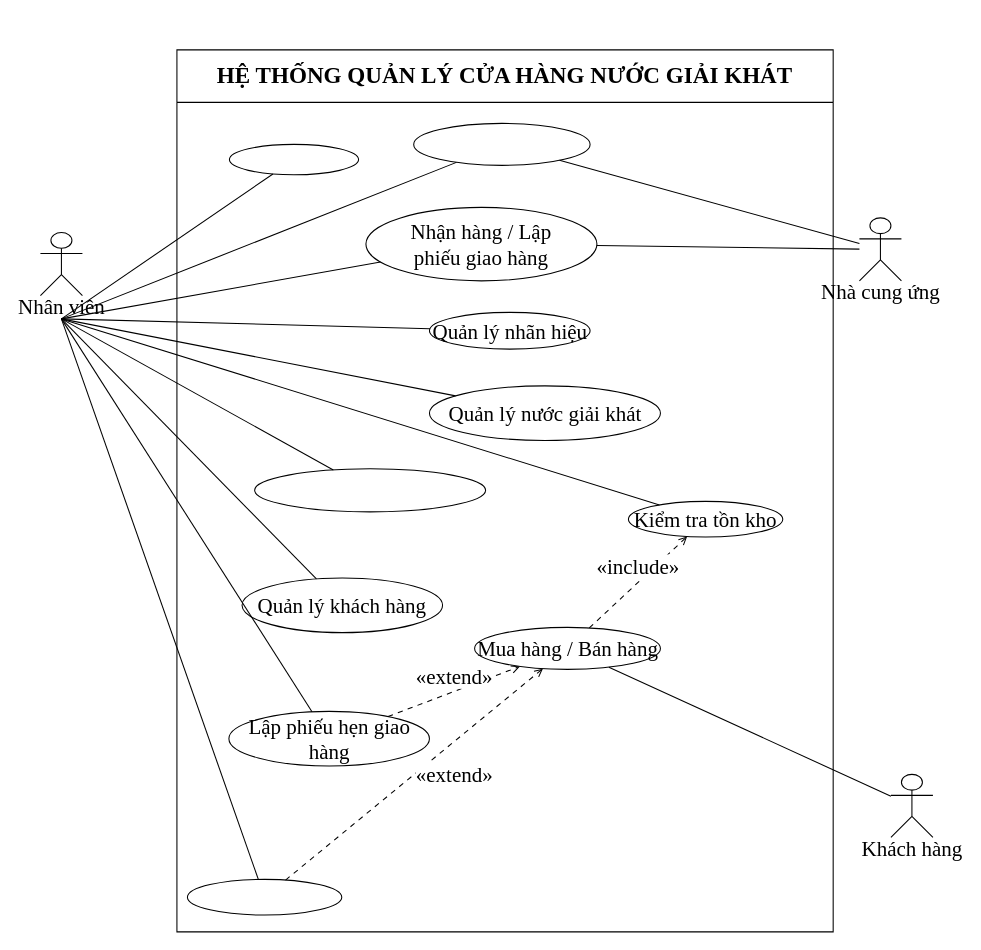
The diagram is 981 pixels wide and 950 high, and some of its shapes have lost their labels. The centre of each missing label's shape, as x and y in pixels:
Lập hóa đơn: [293,159]
Lập phiếu ghi nợ: [264,896]
Lập đơn đặt hàng: [501,143]
Quản lý nhà cung ứng: [370,490]
